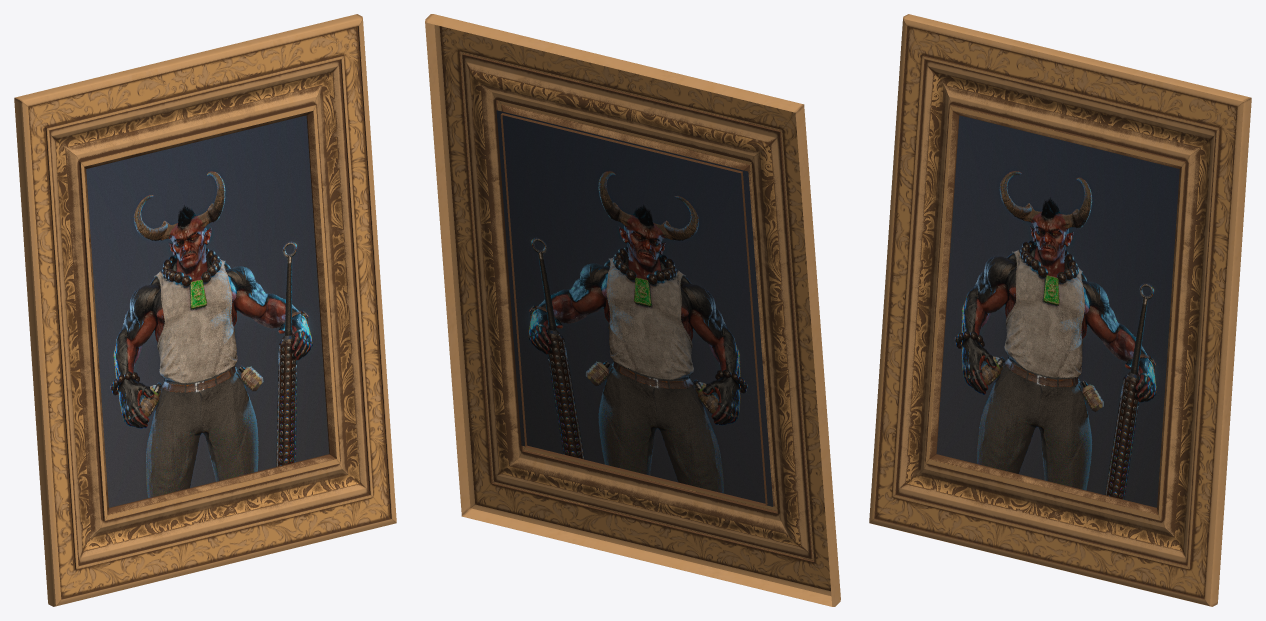
File: picture_frame_1520_dimensions.glb
The picture shows the model from 3 angles, left to right: view 1: azimuth 30°, elevation 25°; view 2: azimuth 150°, elevation 25°; view 3: azimuth 330°, elevation 25°; orthographic projection. The views are drawn at different scales.
Visible parts, largest first — view 1: frame, painting; view 2: frame, painting; view 3: frame, painting.
Boxes of the visible parts, x1,y1,x2,y2 form: frame: [14, 14, 396, 606]; painting: [86, 115, 329, 507]; frame: [425, 14, 840, 606]; painting: [496, 110, 773, 506]; frame: [869, 14, 1251, 606]; painting: [936, 115, 1179, 507].
Size of the model in its own units: 0.2517 by 0.3386 by 0.0536.
Materials: 2 (2 with a texture image).
